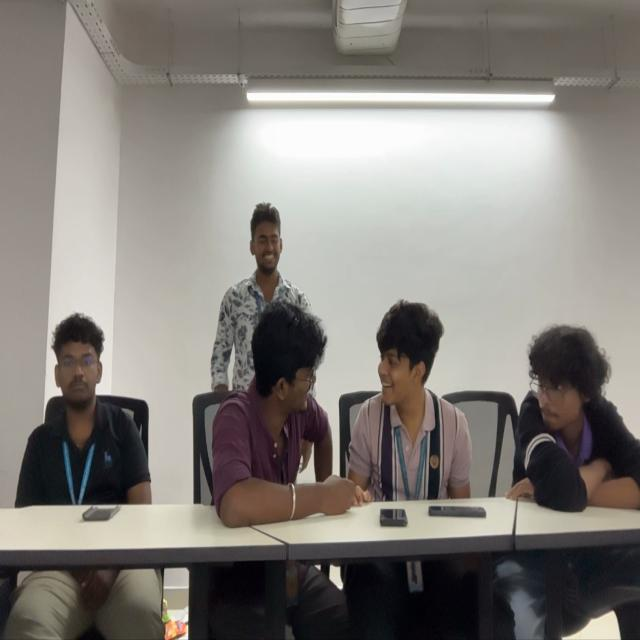Isolated: (14, 313, 151, 503), (507, 326, 640, 508)
socializing: (211, 202, 471, 520)
